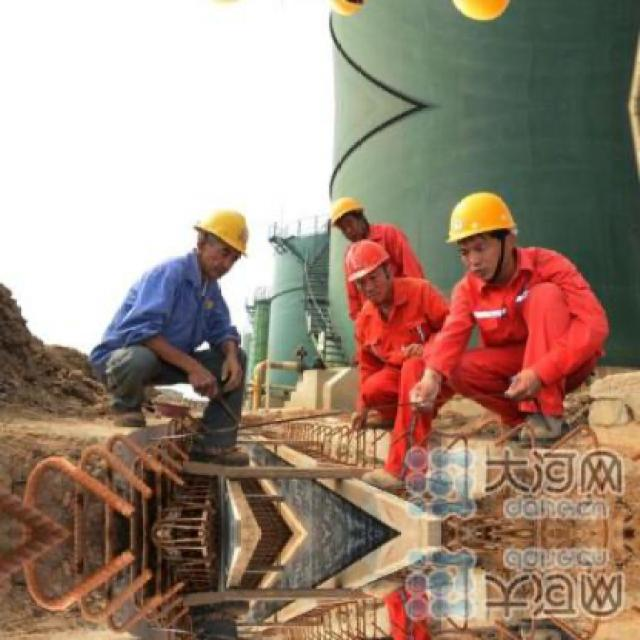helmet: (443, 190, 519, 279), (185, 205, 252, 279), (340, 241, 398, 310), (323, 190, 374, 250), (442, 0, 518, 25), (321, 0, 374, 25)
